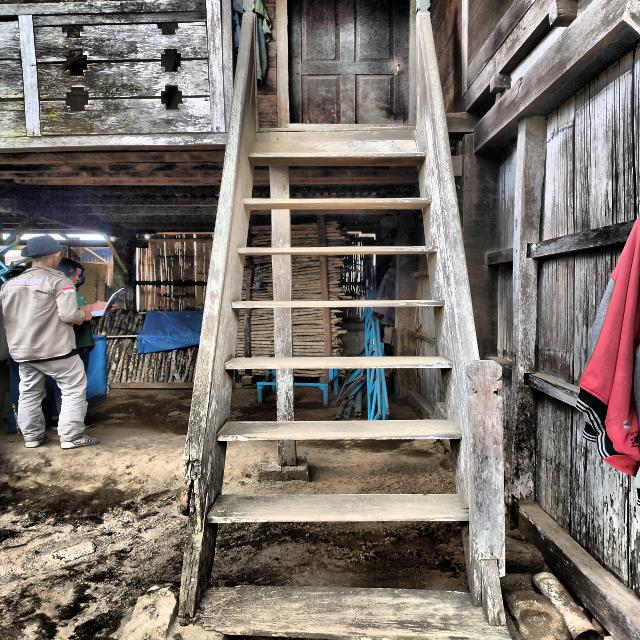door: (287, 0, 409, 125)
ornamen: (33, 22, 211, 137)
stair: (170, 0, 513, 639)
